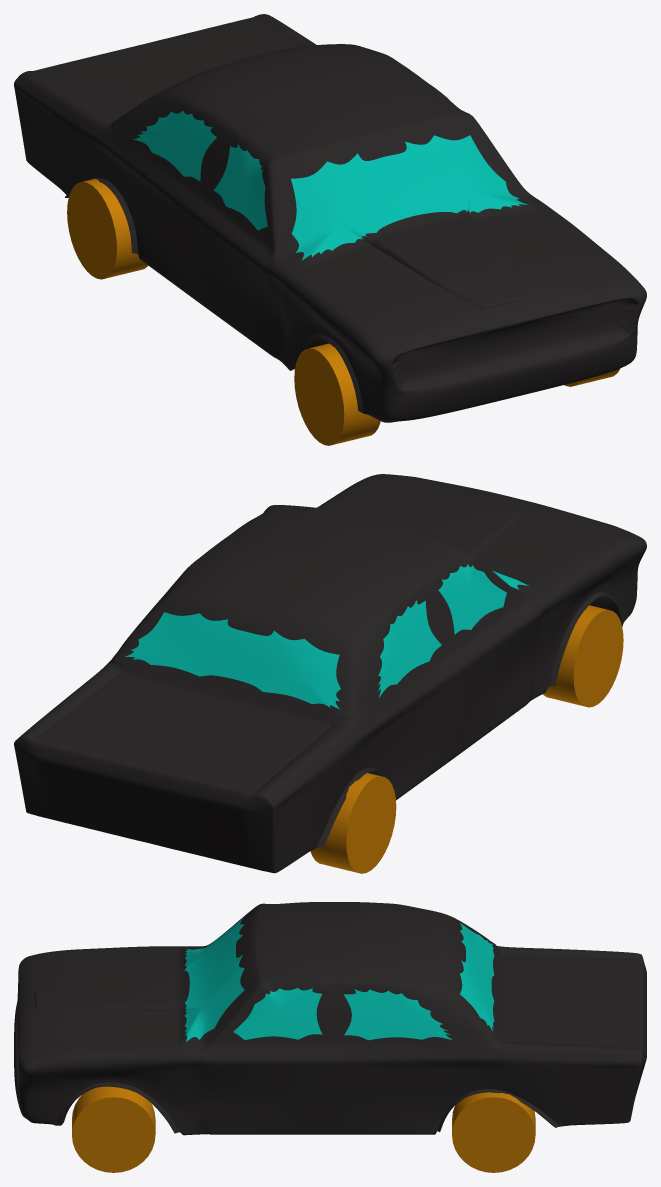
Rendered from 01_gaz2410_test.fbx.
3 renders of one model, top to bottom at view 1: azimuth 30°, elevation 25°; view 2: azimuth 150°, elevation 25°; view 3: azimuth 270°, elevation 25°, orthographic. The views are drawn at different scales.
Visible parts, largest first — view 1: Hood.002, Cylinder.006, Cylinder.007; view 2: Hood.002, Cylinder.007, Cylinder.006; view 3: Hood.002, Cylinder.005, Cylinder.000.
Part boxes in pixels (x1,y1,x2,y2): Hood.002: [14, 14, 646, 422]; Cylinder.006: [294, 343, 380, 445]; Cylinder.007: [67, 179, 148, 279]; Hood.002: [14, 474, 646, 873]; Cylinder.007: [310, 773, 396, 873]; Cylinder.006: [543, 605, 623, 707]; Hood.002: [14, 902, 646, 1135]; Cylinder.005: [72, 1086, 155, 1172]; Cylinder.000: [452, 1092, 535, 1172].
Bounding box in the file's own units: 190 × 143 × 444.
